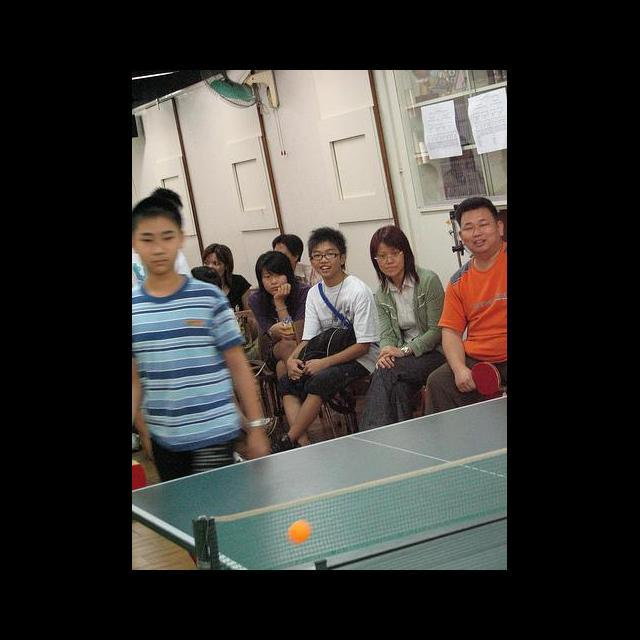ping-pong-ball: (288, 519, 311, 543)
